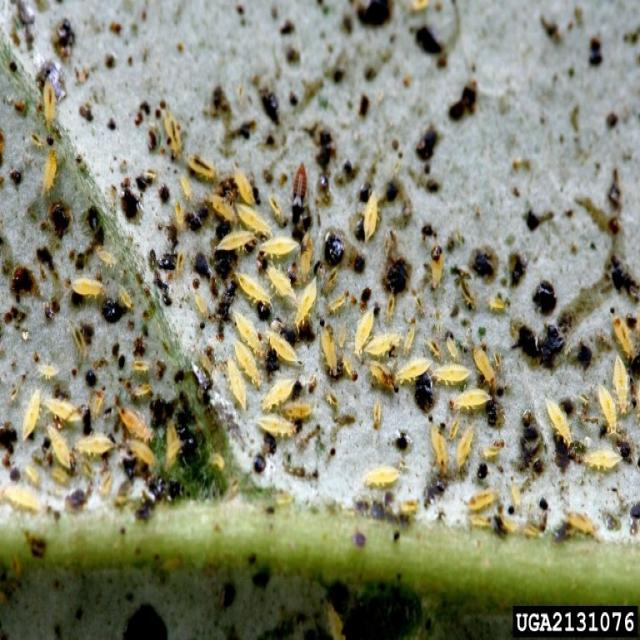Thrip-Adult-: (287, 154, 310, 227)
Thrip-Group-: (14, 94, 629, 531)
